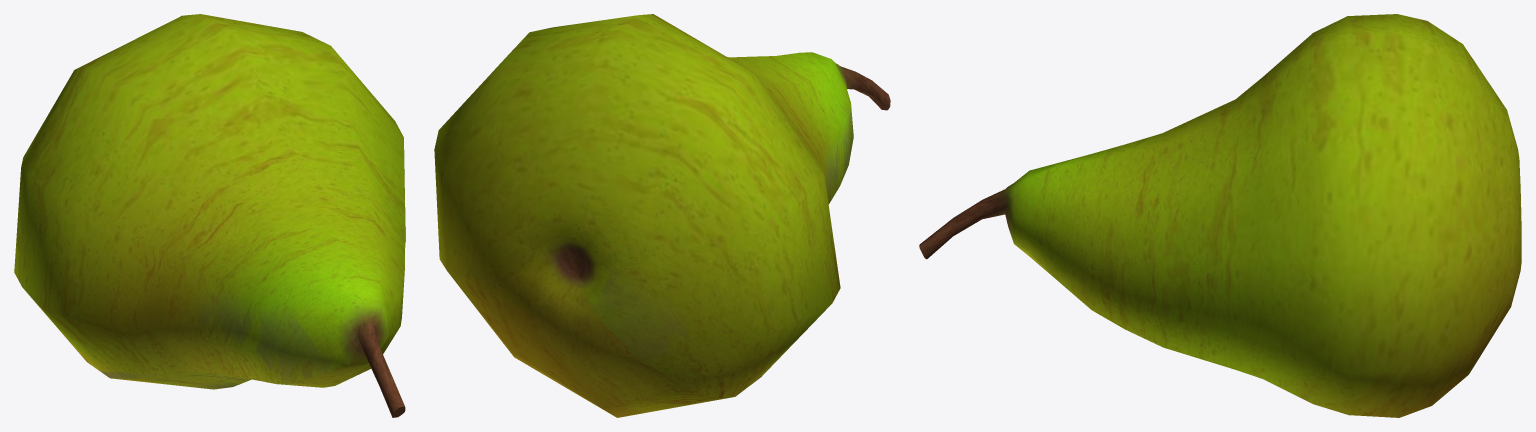
3 renders of one model, left to right at view 1: azimuth 30°, elevation 25°; view 2: azimuth 150°, elevation 25°; view 3: azimuth 270°, elevation 25°, orthographic. The views are drawn at different scales.
Parts seen in each view (by area): view 1: SM_Pear; view 2: SM_Pear; view 3: SM_Pear.
Part boxes in pixels (bbox=[...]): SM_Pear: bbox=[14, 14, 405, 417]; SM_Pear: bbox=[434, 14, 890, 417]; SM_Pear: bbox=[919, 14, 1521, 417].
Size of the model in its own units: 0.078 by 0.0757 by 0.1098.
1 material, 1 textured.
